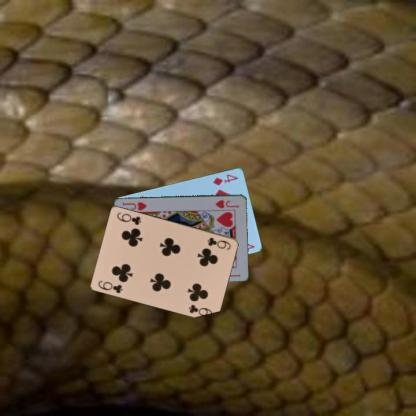4d: (210, 172, 240, 186)
6c: (96, 278, 124, 294), (205, 234, 232, 250)
Jh: (213, 197, 240, 210)
